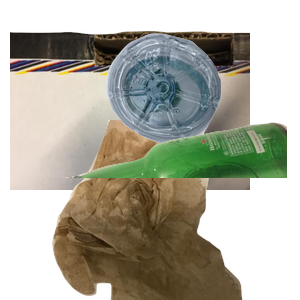cardboard: (10, 29, 250, 209)
glass: (60, 120, 300, 300)
plastic: (104, 31, 300, 168)
trash: (50, 120, 285, 300)
